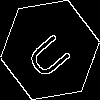U: (25, 25, 80, 83)
